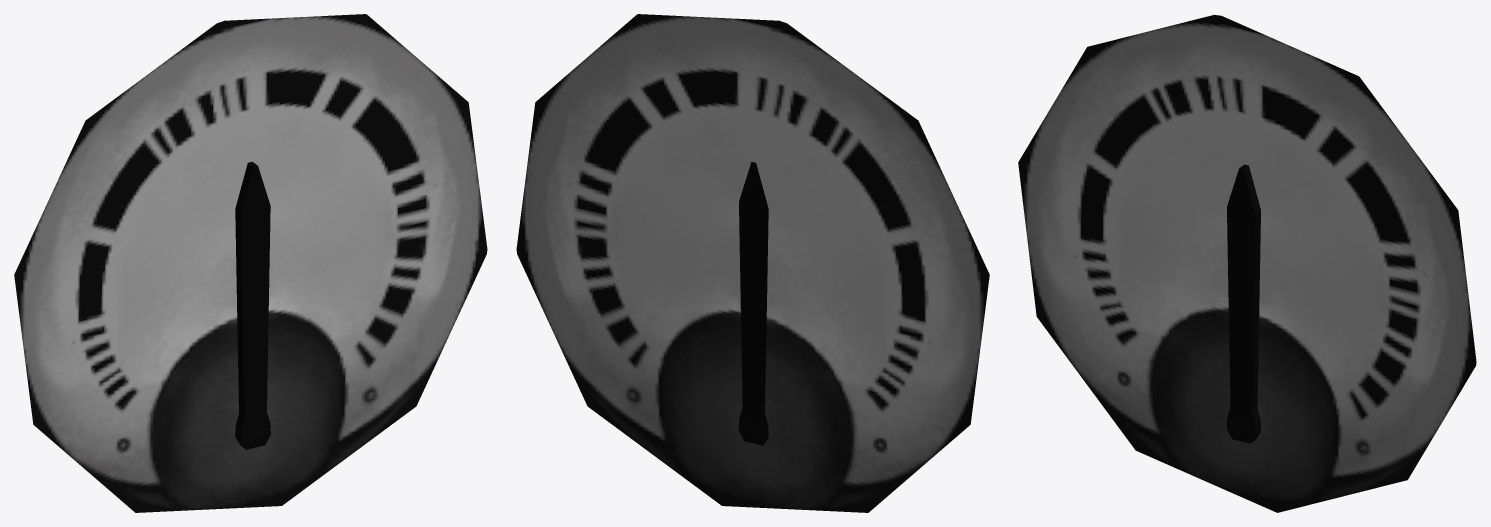
The model's file is indicator_circle.fbx.
3 views of the same model, side by side, from view 1: azimuth 30°, elevation 25°; view 2: azimuth 150°, elevation 25°; view 3: azimuth 330°, elevation 25° (orthographic). The views are drawn at different scales.
Visible parts, largest first — view 1: Cube.001, Cube; view 2: Cube.001, Cube; view 3: Cube.001, Cube.
Part boxes in pixels (x1,y1,x2,y2): Cube.001: [14, 14, 487, 512]; Cube: [235, 161, 270, 449]; Cube.001: [516, 14, 989, 512]; Cube: [738, 161, 768, 445]; Cube.001: [1018, 14, 1476, 512]; Cube: [1226, 164, 1260, 443].
Bounding box in the file's own units: 47.6 × 1.12 × 48.03.
